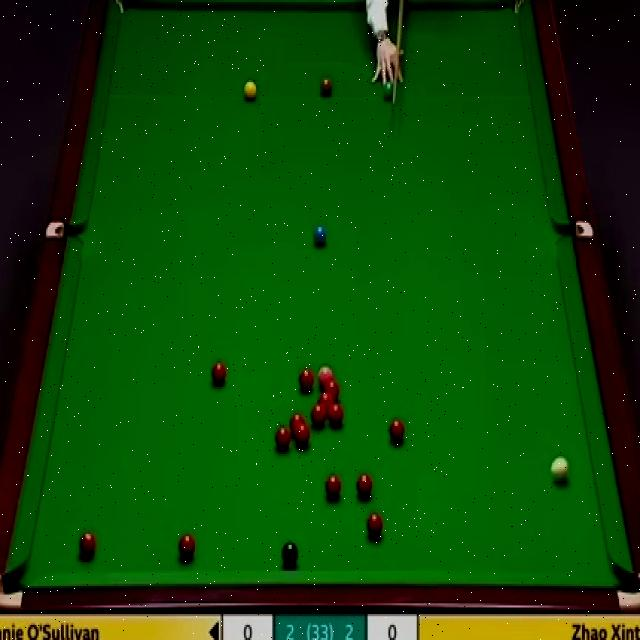black-ball: (281, 538, 299, 568)
blue-ball: (311, 223, 328, 249)
brown-ball: (319, 78, 332, 98)
green-ball: (383, 80, 395, 102)
pink-ball: (318, 365, 334, 384)
red-ball: (78, 529, 96, 558), (366, 512, 384, 541), (178, 534, 197, 561), (298, 367, 315, 394), (389, 419, 406, 444), (325, 475, 342, 498), (356, 474, 372, 498), (211, 360, 226, 385), (295, 423, 311, 446), (275, 427, 291, 449), (309, 405, 327, 424), (329, 404, 344, 425), (289, 411, 304, 430), (316, 392, 336, 406), (324, 381, 342, 394)
white-ball: (550, 454, 570, 485)
yellow-ball: (243, 79, 258, 102)
